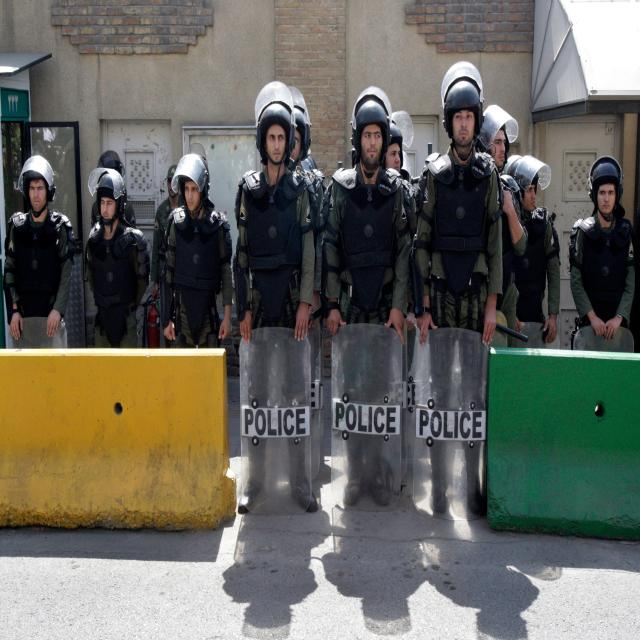police: (423, 39, 508, 569), (327, 47, 405, 557), (231, 56, 313, 537), (505, 147, 635, 438), (151, 138, 238, 382), (0, 126, 72, 369), (74, 158, 154, 365)
